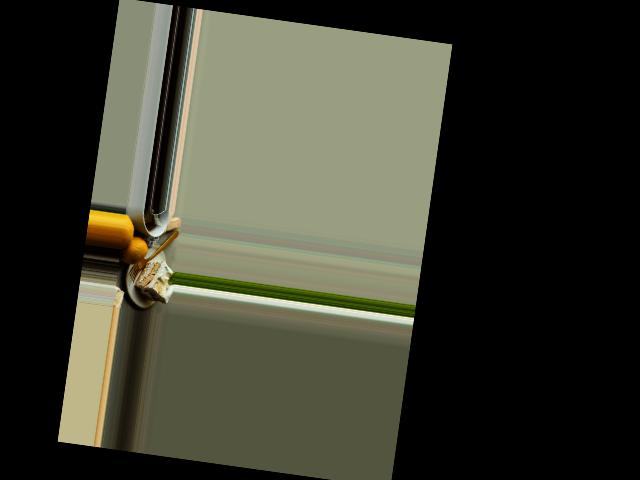lemon: (119, 213, 137, 251)
